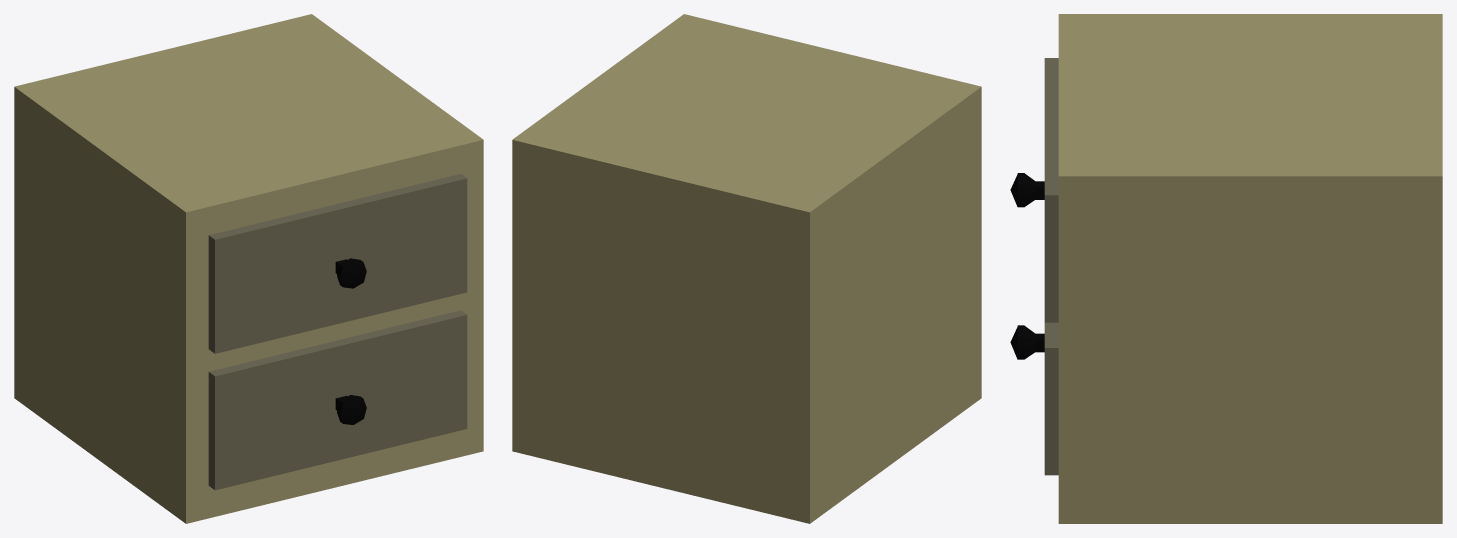
The model's file is bedsideDrawer.fbx.
3 renders of one model, left to right at view 1: azimuth 30°, elevation 25°; view 2: azimuth 150°, elevation 25°; view 3: azimuth 270°, elevation 25°, orthographic. The views are drawn at different scales.
Visible parts, largest first — view 1: bedsideDrawer, bottomDrawer, topDrawer; view 2: bedsideDrawer; view 3: bedsideDrawer, topDrawer, bottomDrawer.
Boxes of the visible parts, box(x1,y1,x2,y2) form: bedsideDrawer: box(14, 14, 483, 523); bottomDrawer: box(208, 310, 467, 490); topDrawer: box(208, 174, 467, 353); bedsideDrawer: box(512, 14, 981, 523); bedsideDrawer: box(1058, 14, 1442, 523); topDrawer: box(1010, 58, 1058, 322); bottomDrawer: box(1010, 322, 1058, 475).
Size of the model in its own units: 6.83 by 6.83 by 7.69.
